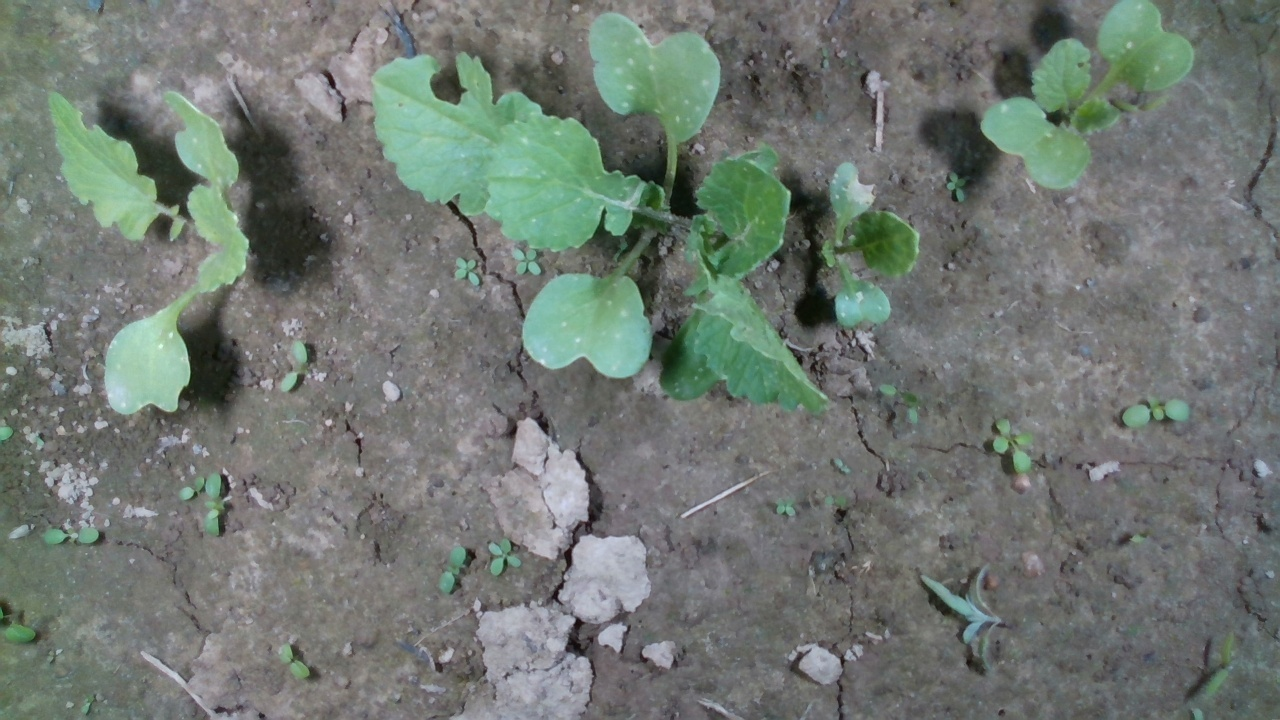weed: (991, 415, 1037, 474), (1120, 393, 1192, 429), (277, 338, 308, 394), (436, 544, 467, 595), (486, 537, 522, 576), (41, 525, 100, 547), (278, 642, 310, 679), (452, 254, 480, 288), (945, 169, 969, 205), (176, 475, 205, 501), (773, 494, 797, 520), (832, 454, 853, 475)
